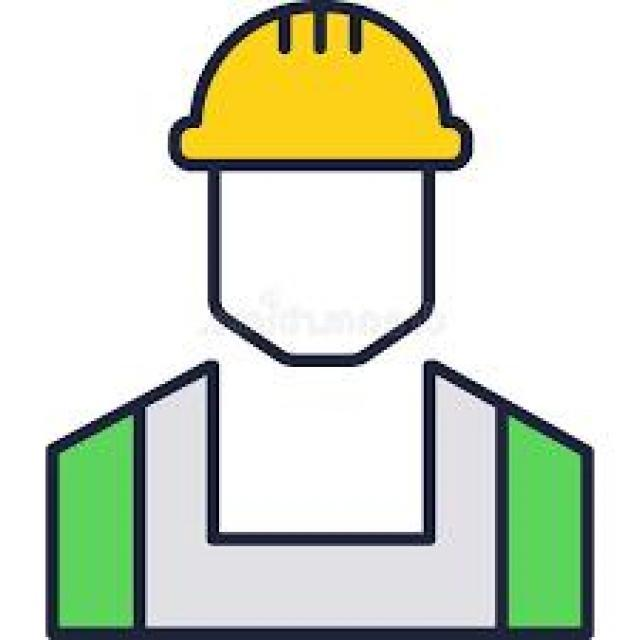safety_helmet: (168, 5, 481, 173)
